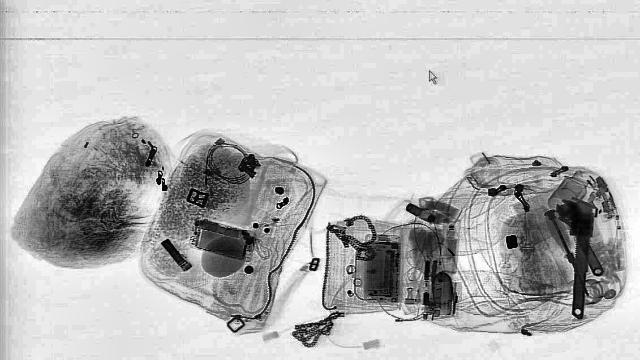Wrench: (547, 197, 617, 277)
